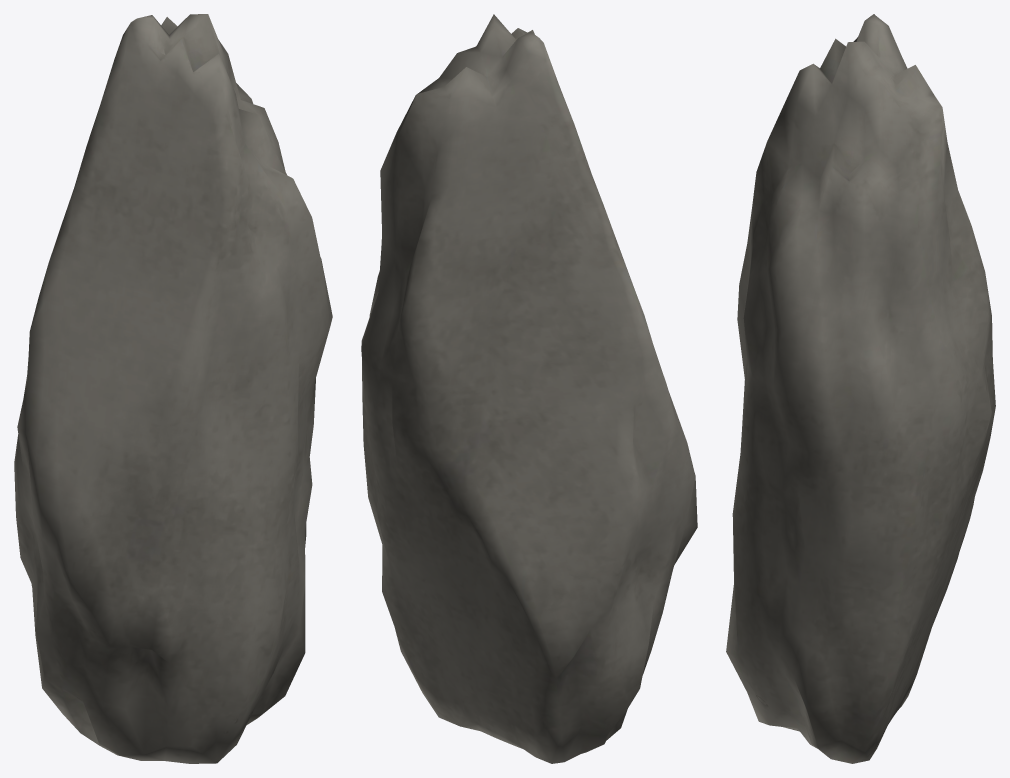
Rendered from tall-standing-stone.glb.
The picture shows the model from 3 angles, left to right: view 1: azimuth 30°, elevation 25°; view 2: azimuth 150°, elevation 25°; view 3: azimuth 270°, elevation 25°; orthographic projection.
Visible parts, largest first — view 1: stone; view 2: stone; view 3: stone.
Boxes of the visible parts, x1=… form: stone: x1=14, y1=14, x2=332, y2=763; stone: x1=361, y1=14, x2=697, y2=763; stone: x1=726, y1=14, x2=995, y2=763.
Size of the model in its own units: 0.7112 by 1.64 by 0.5678.
Materials: 1 (1 with a texture image).
